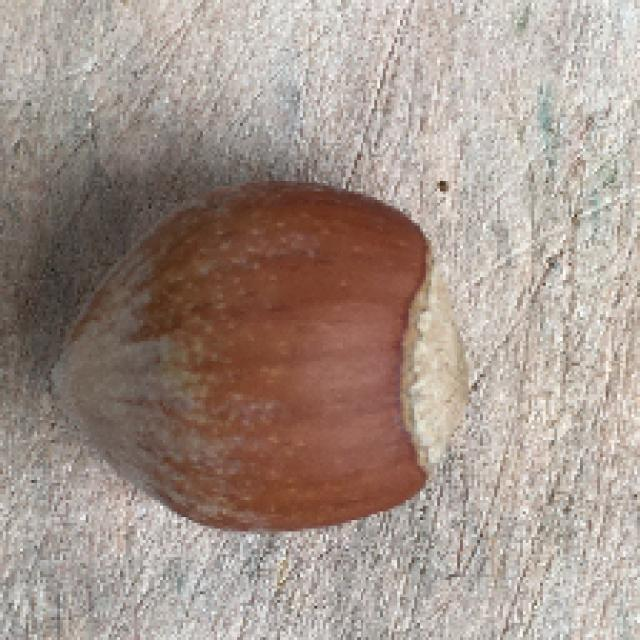hazelnut: (43, 173, 473, 537)
